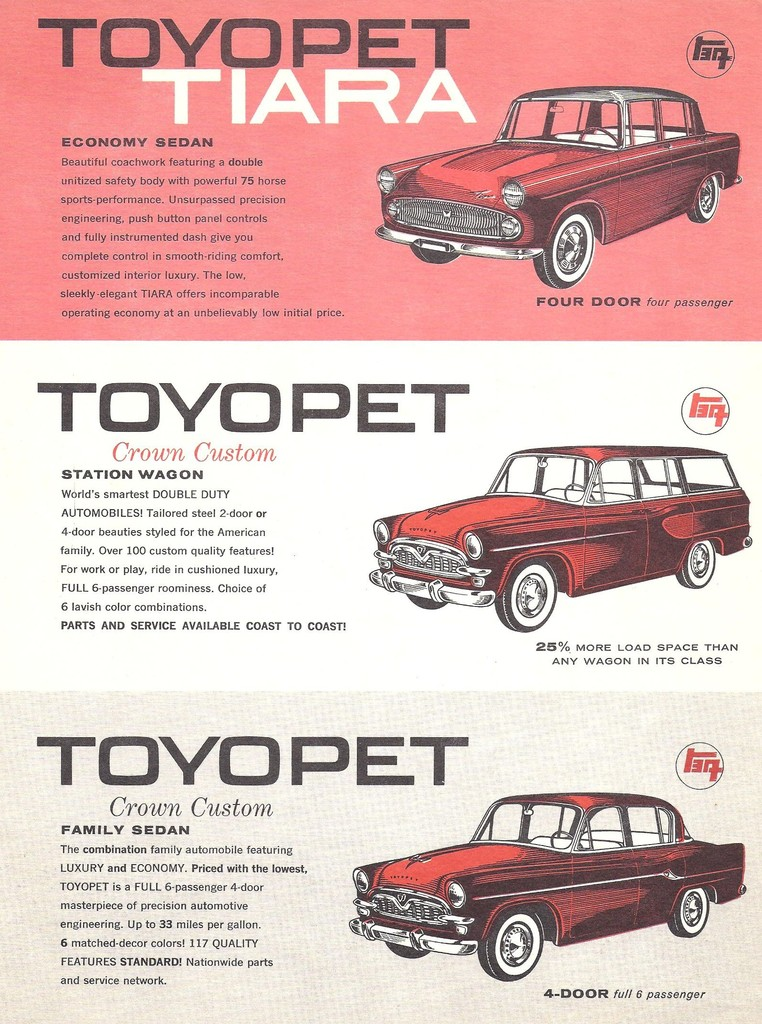Car: (348, 788, 753, 979), (373, 81, 744, 288), (367, 440, 749, 634)
